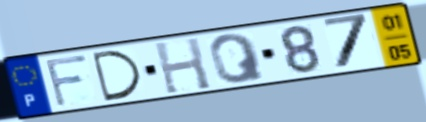7: (320, 12, 372, 72)
8: (278, 24, 323, 76)
D: (88, 48, 146, 103)
F: (43, 52, 91, 109)
H: (152, 36, 214, 96)
Q: (207, 31, 268, 85)
